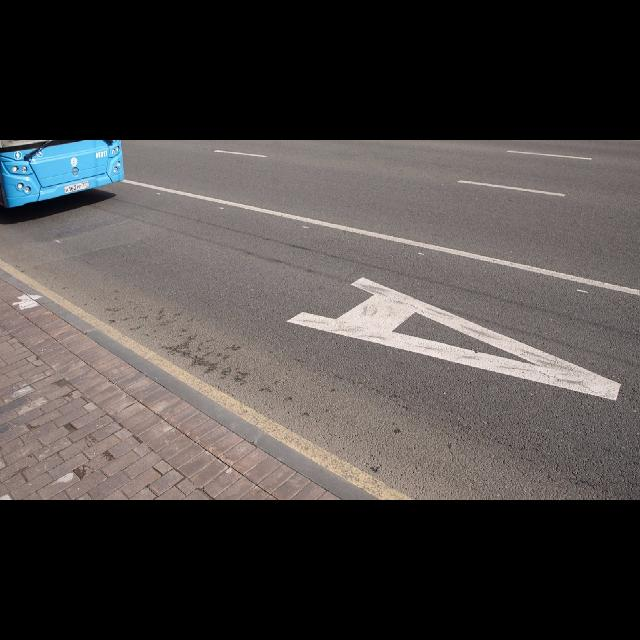road: (0, 140, 640, 499)
